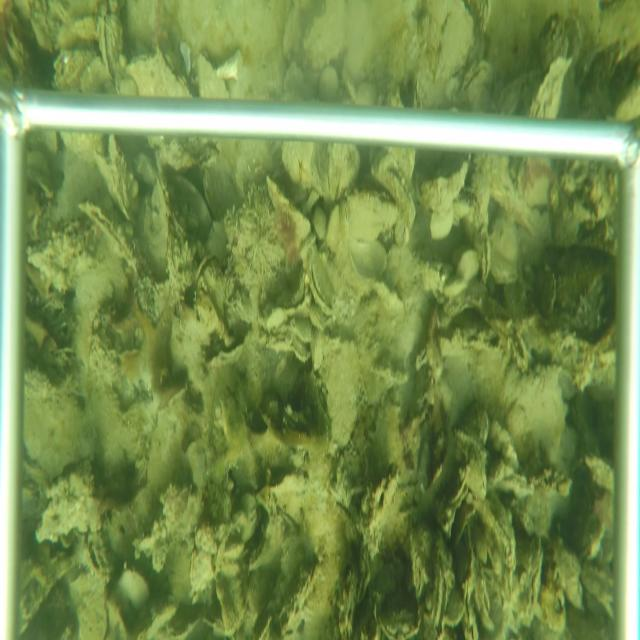Oyster-Closed: (76, 199, 144, 278), (124, 52, 193, 99), (304, 254, 337, 317), (98, 13, 124, 79)
Oyster-Indeterminate: (321, 333, 363, 452), (526, 58, 574, 121)
